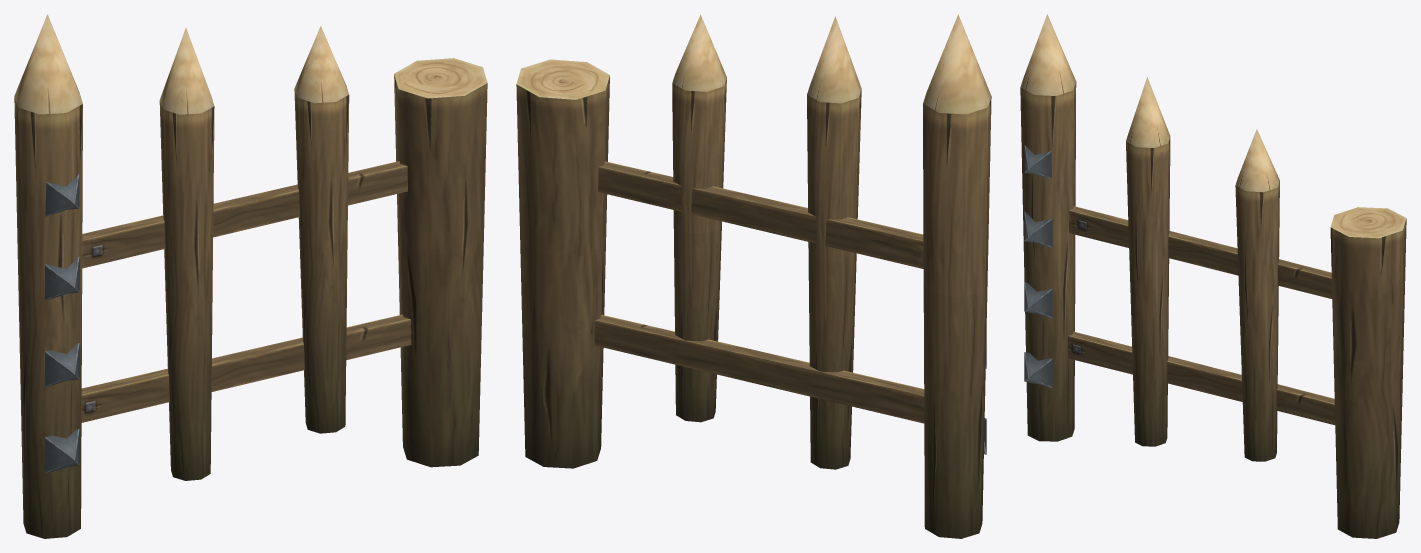
Rendered from gates_09_right.fbx.
3 renders of one model, left to right at view 1: azimuth 30°, elevation 25°; view 2: azimuth 150°, elevation 25°; view 3: azimuth 330°, elevation 25°, orthographic. The views are drawn at different scales.
Parts seen in each view (by area): view 1: gates_09_right:Mesh; view 2: gates_09_right:Mesh; view 3: gates_09_right:Mesh.
Boxes of the visible parts, left/top/right/bottom form: gates_09_right:Mesh: left=14, top=14, right=487, bottom=538; gates_09_right:Mesh: left=516, top=14, right=991, bottom=538; gates_09_right:Mesh: left=1020, top=14, right=1406, bottom=538.
Size of the model in its own units: 4.38 by 4.79 by 0.8172.
